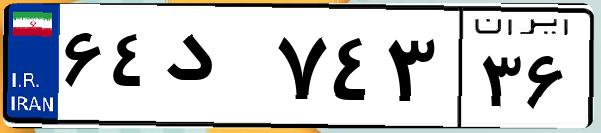3: (385, 28, 445, 110), (475, 38, 525, 113)
4: (330, 28, 385, 110), (110, 28, 158, 98)
6: (57, 26, 110, 100), (525, 38, 570, 115)
7: (270, 28, 330, 110)
د: (158, 20, 270, 120)
